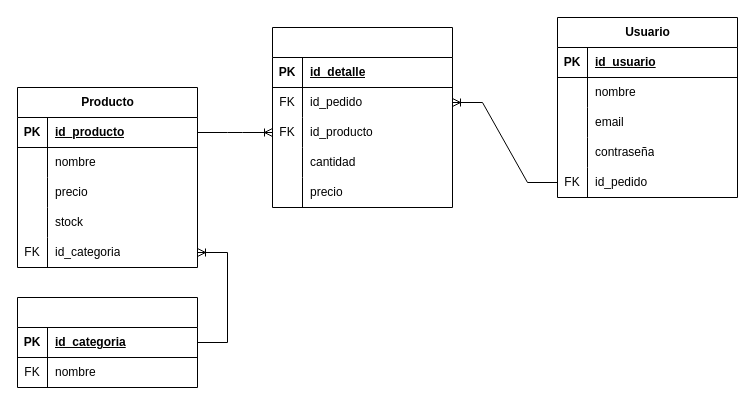
Image size: 755x405. Some labels were removed from this diagram. Here are the shapes that lost their labels. From the top down, the box of each, then its label:
(272, 26, 452, 208): Detalle orden
(16, 296, 198, 388): Categorías
